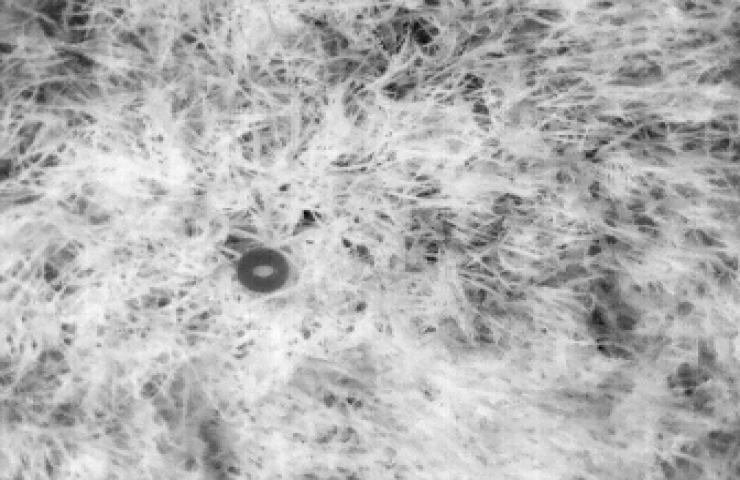landmines: (234, 246, 295, 296)
